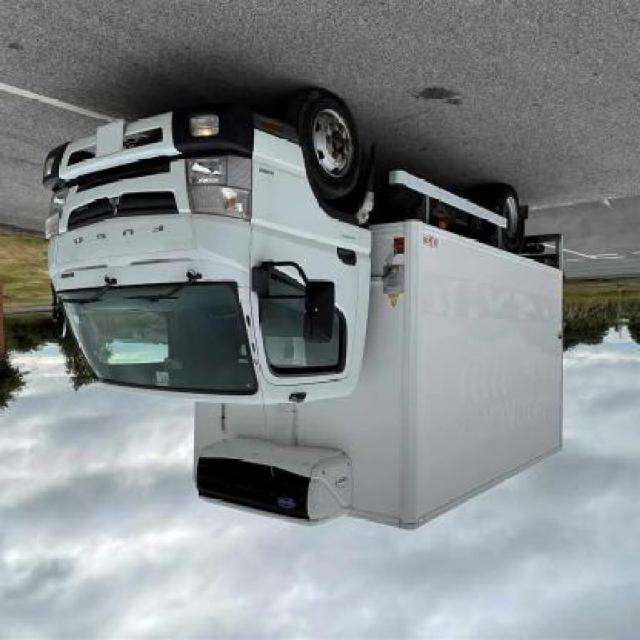truck: (43, 94, 566, 531)
